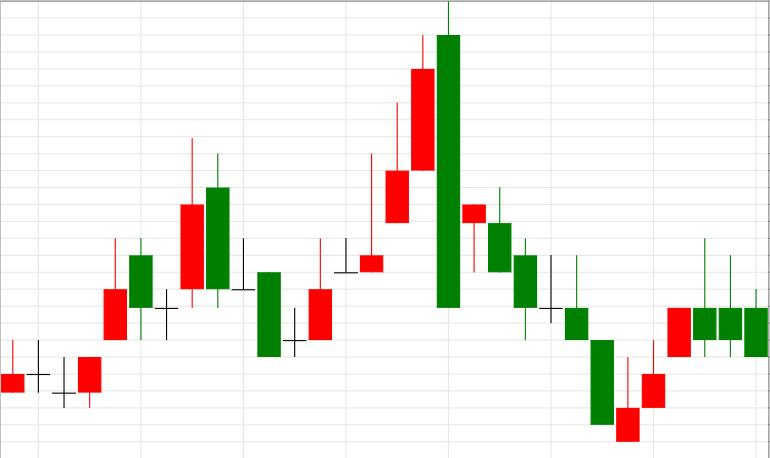bearish_engulfing_fall: (284, 2, 459, 358)
inverse_hammer_rise: (488, 188, 639, 441)
